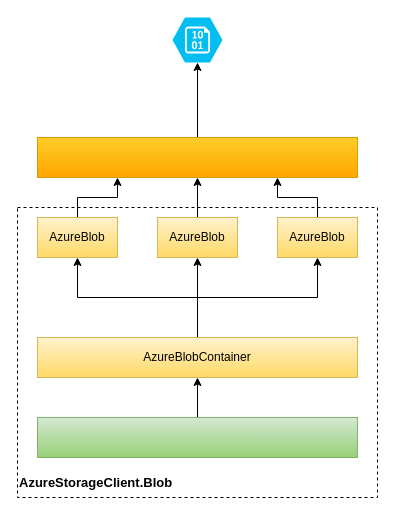
Some shapes in this 395 by 515 pixel diagram are drawn without their labels. Here are the shapes that lost their labels. From the top down, the centre of each, then its label:
At (197,157): "Azure.Storage.Blobs".
At (197,437): "AzureBlobClient".
